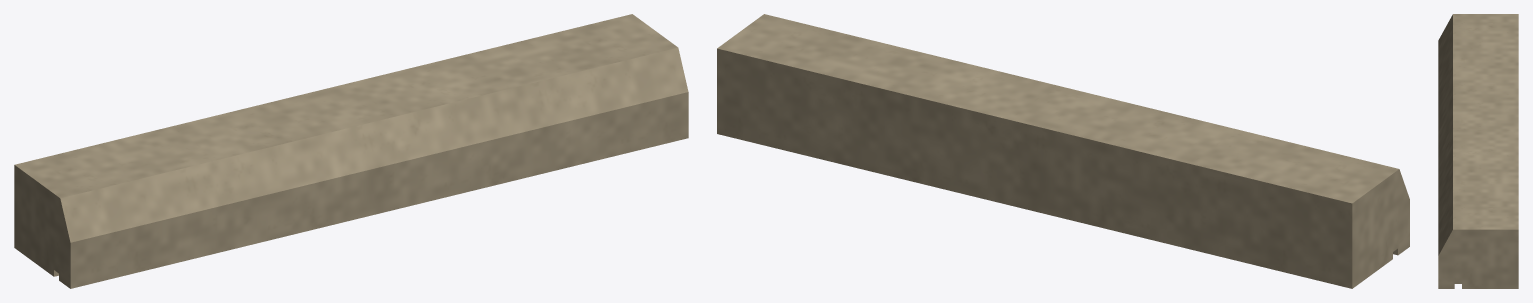
The model's file is sandstone-sill.lod0.glb.
The picture shows the model from 3 angles, left to right: view 1: azimuth 30°, elevation 25°; view 2: azimuth 150°, elevation 25°; view 3: azimuth 270°, elevation 25°; orthographic projection. The views are drawn at different scales.
Parts seen in each view (by area): view 1: sandstone-sill; view 2: sandstone-sill; view 3: sandstone-sill.
Boxes of the visible parts, box(x1,y1,x2,y2) form: sandstone-sill: box(14, 14, 688, 288); sandstone-sill: box(717, 14, 1409, 288); sandstone-sill: box(1438, 14, 1518, 288).
Bounding box in the file's own units: 1.4 × 0.18 × 0.22.
1 material, 1 textured.
